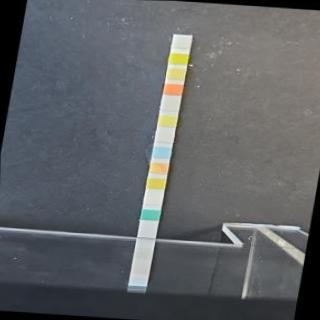mark: (164, 82, 182, 96), (153, 146, 170, 158), (152, 162, 168, 174), (168, 68, 184, 80), (171, 53, 187, 65), (142, 209, 159, 220), (157, 130, 172, 142), (146, 193, 162, 204), (159, 115, 175, 126), (162, 99, 178, 110), (173, 39, 190, 49), (148, 178, 164, 188)
